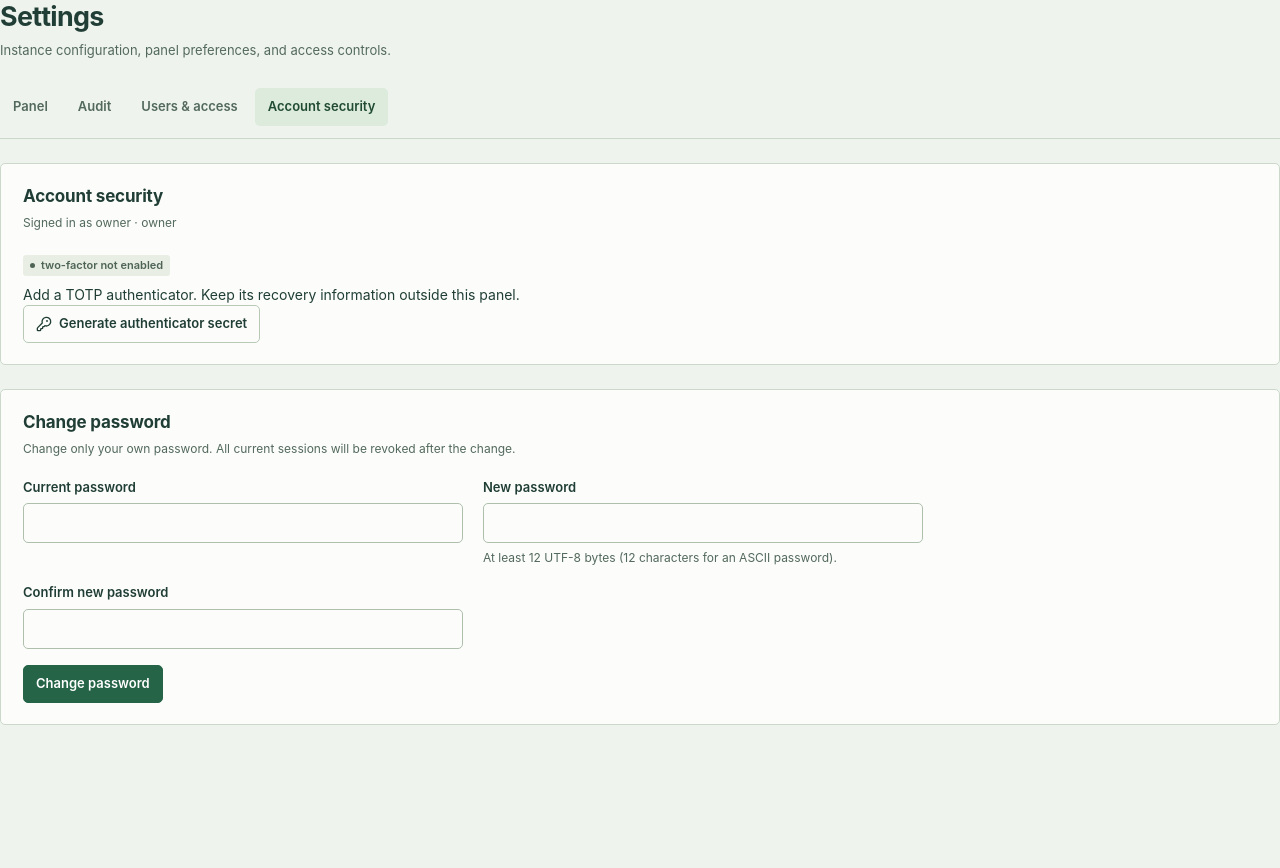
owner user revocation › protects self/owner rows and revokes a non-owner only after typed confirmation
Click the button "Users & access".
click(190, 107)  # box [128,88,251,126]
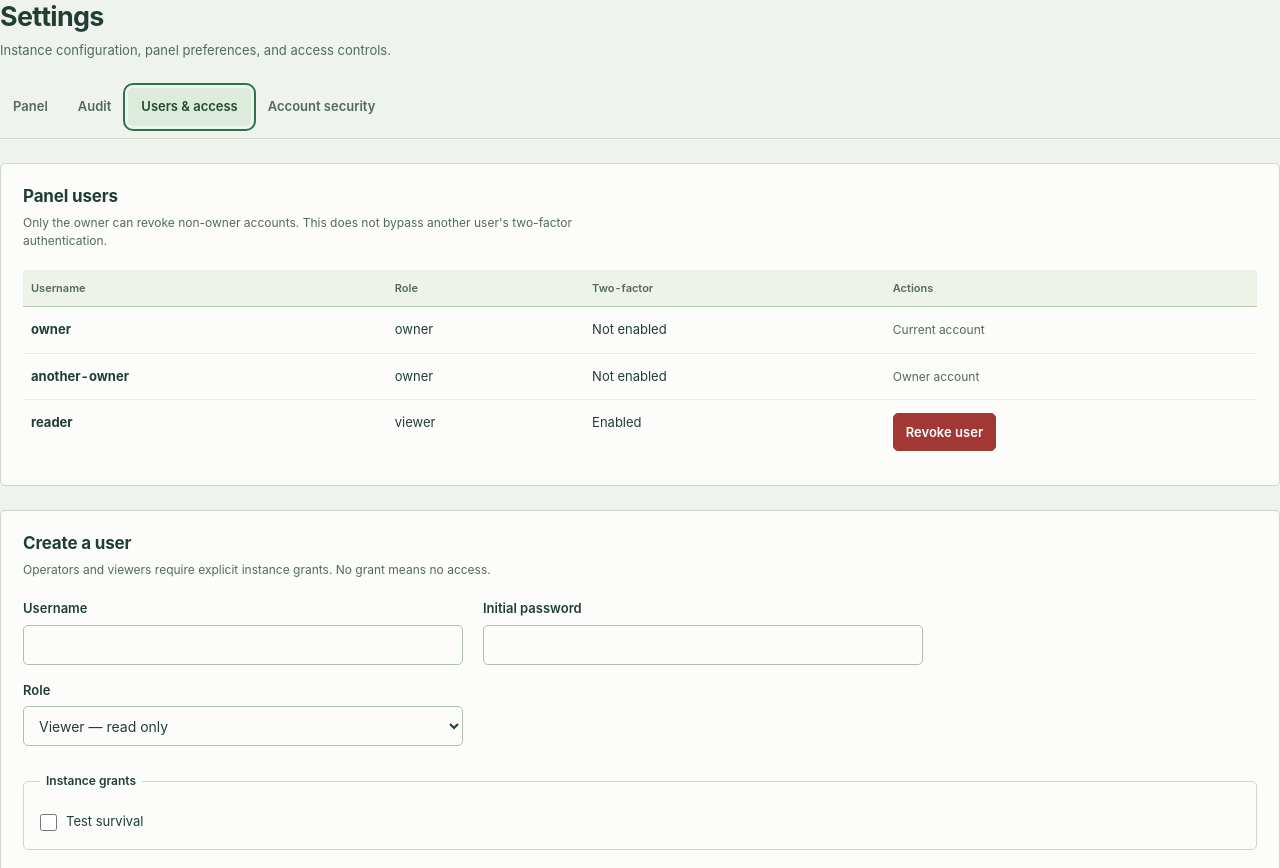
Check: the text "another-owner" is shown, box [31,368,129,384]
Click the button "Revoke user".
click(944, 432)  # box [893,413,996,451]
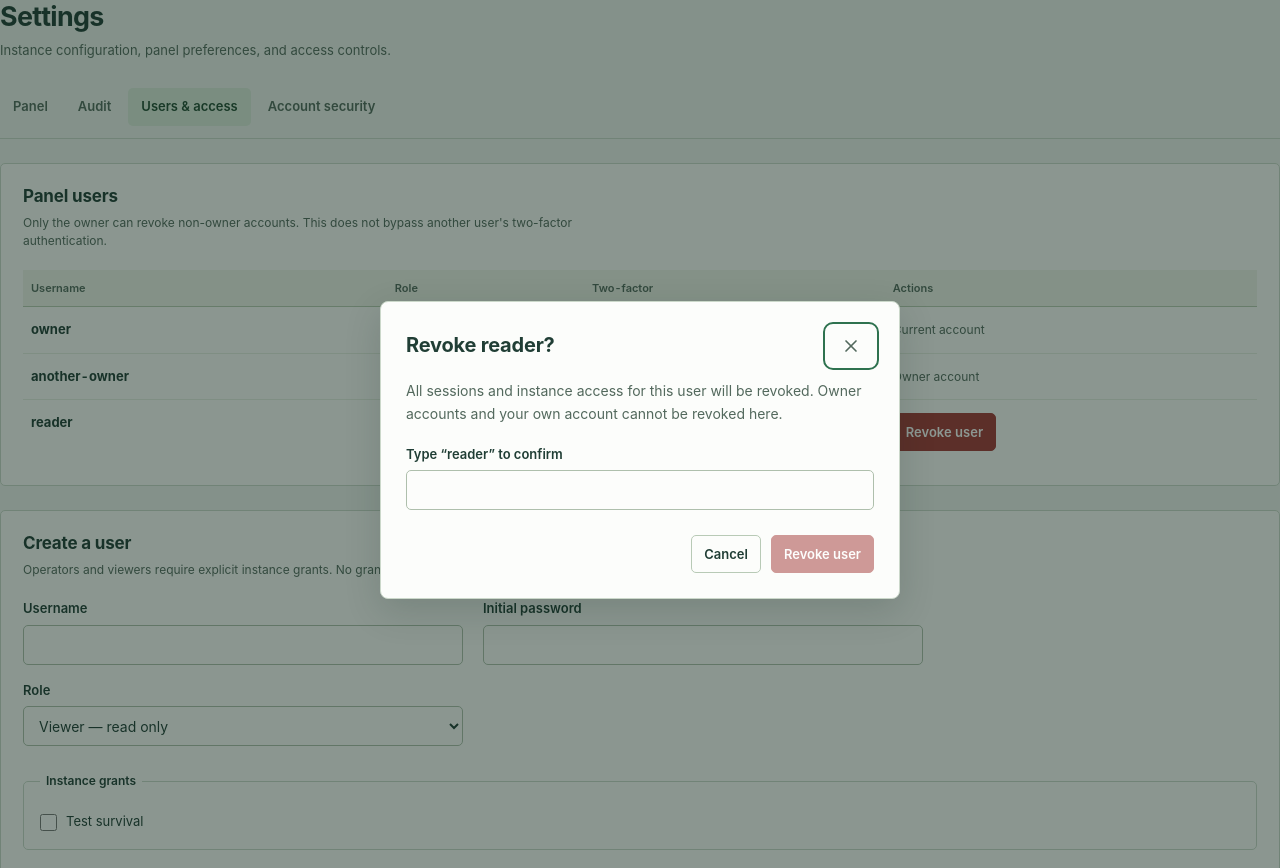
Check: the text "All sessions and instance access for this user will be revoked" is shown, box [406,382,862,422]
Check: the button "Revoke user" is disabled, box [771,535,874,573]
Type "reader" into the field labelled "Type “reader” to confirm".
click(640, 490); type("reader")  # box [406,470,874,510]
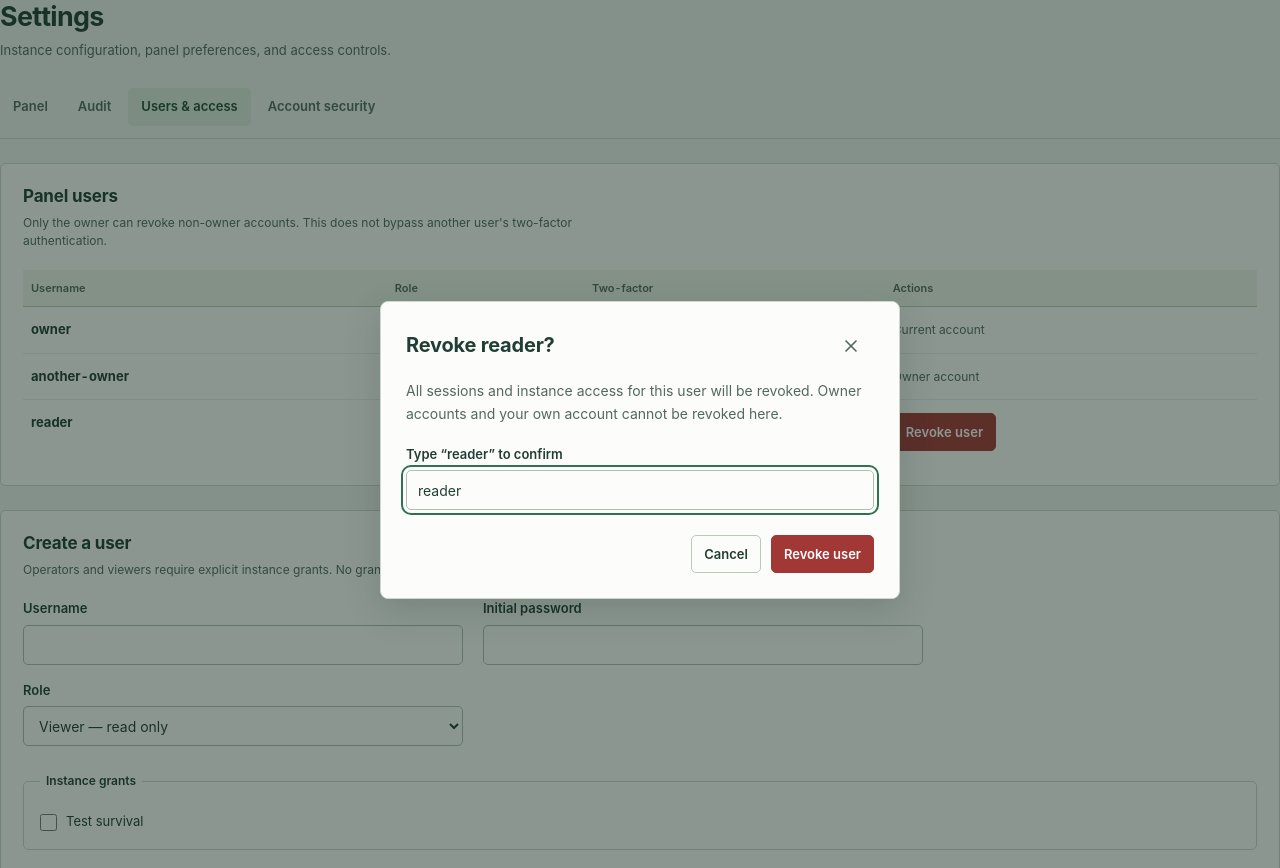
Click the button "Revoke user".
click(822, 554)  # box [771,535,874,573]
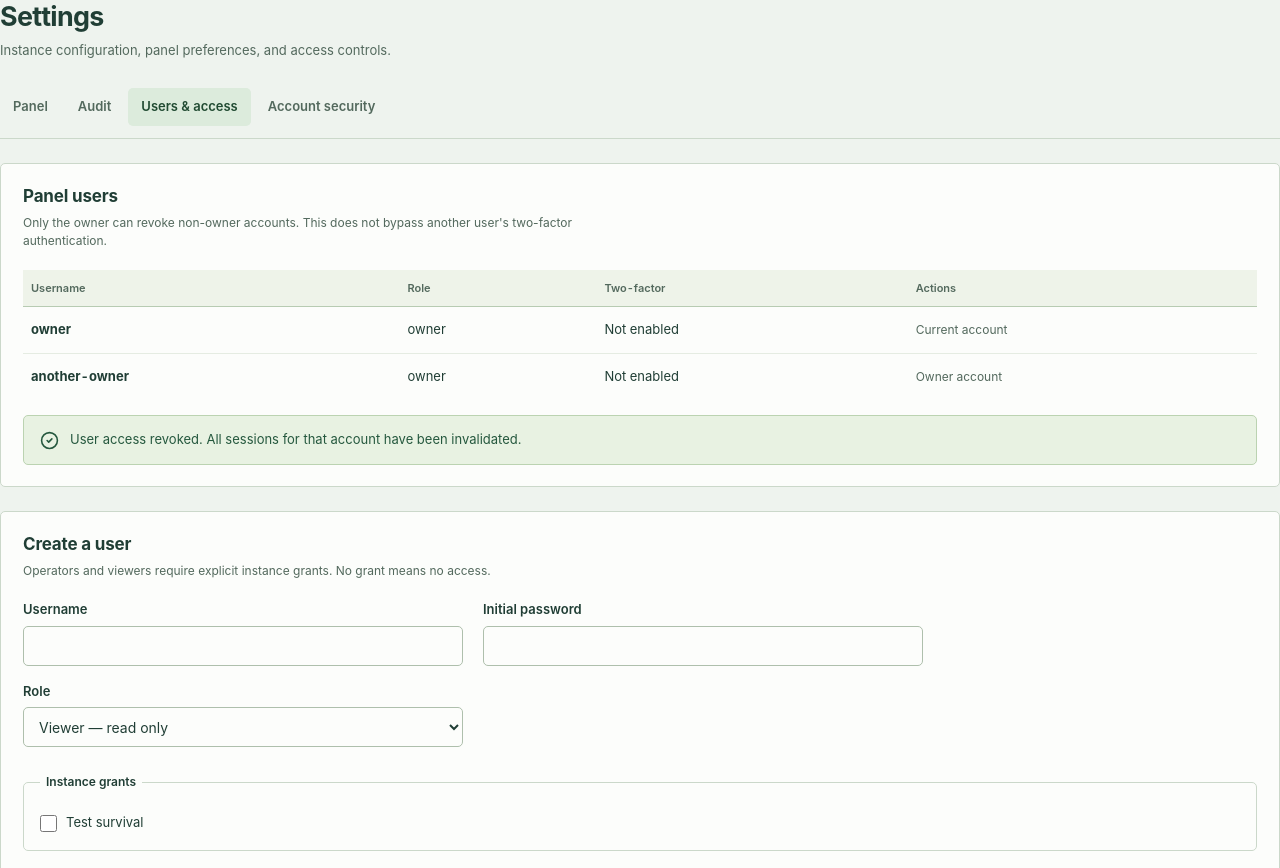
Check: the text "User access revoked. All sessions for that account have been invalidated." is shown, box [70,430,522,450]
